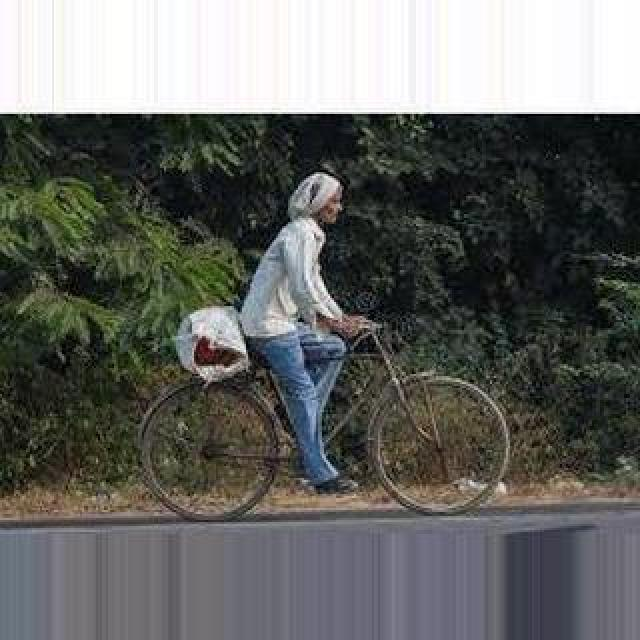MC-Bike: (236, 174, 372, 496)
Person: (136, 318, 512, 524)
